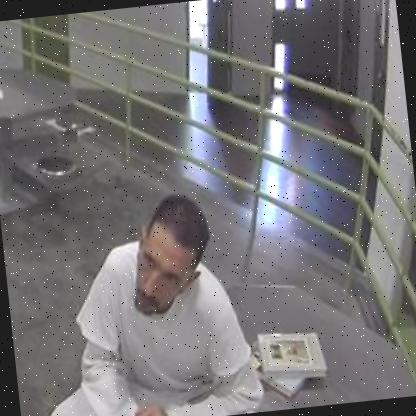person: (22, 178, 272, 416)
